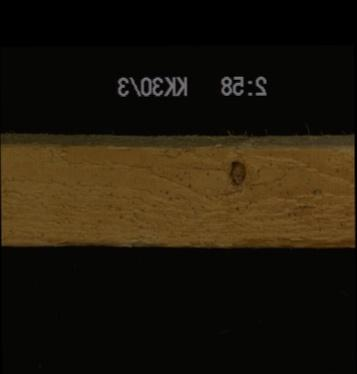wave: (1, 131, 353, 157), (1, 229, 165, 247), (230, 229, 353, 251)
